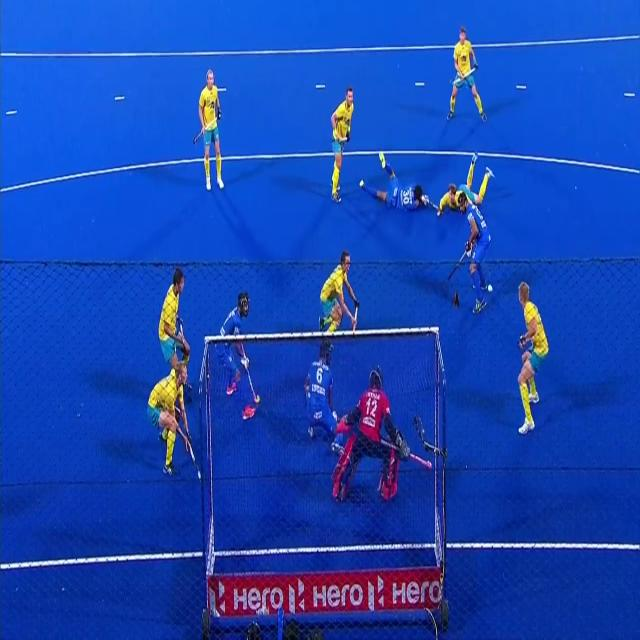ball: (486, 282, 493, 294)
